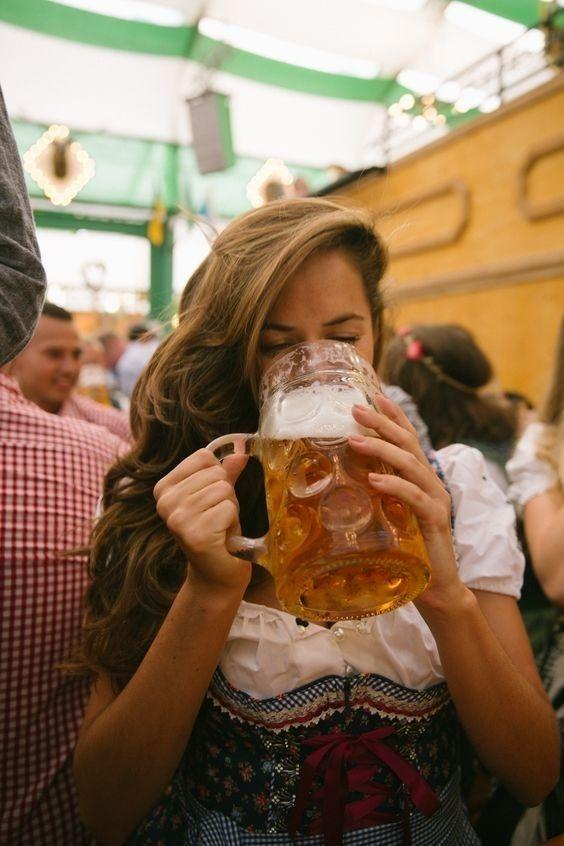glass-mug: (207, 337, 432, 626)
